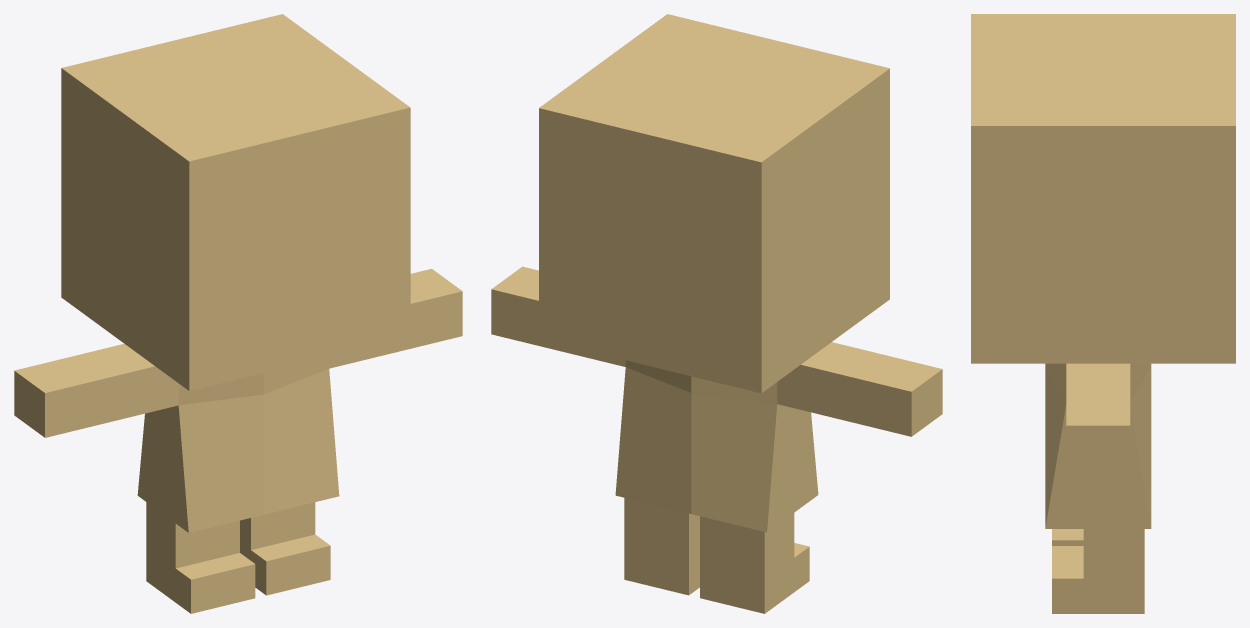
Rendered from JUGADOR.fbx.
The picture shows the model from 3 angles, left to right: view 1: azimuth 30°, elevation 25°; view 2: azimuth 150°, elevation 25°; view 3: azimuth 270°, elevation 25°; orthographic projection. The views are drawn at different scales.
Visible parts, largest first — view 1: Cube; view 2: Cube; view 3: Cube.
Part boxes in pixels (left/top/right/bottom): Cube: left=14, top=14, right=462, bottom=613; Cube: left=491, top=14, right=942, bottom=613; Cube: left=971, top=14, right=1235, bottom=613.
Size of the model in its own units: 160 by 180 by 84.91.
